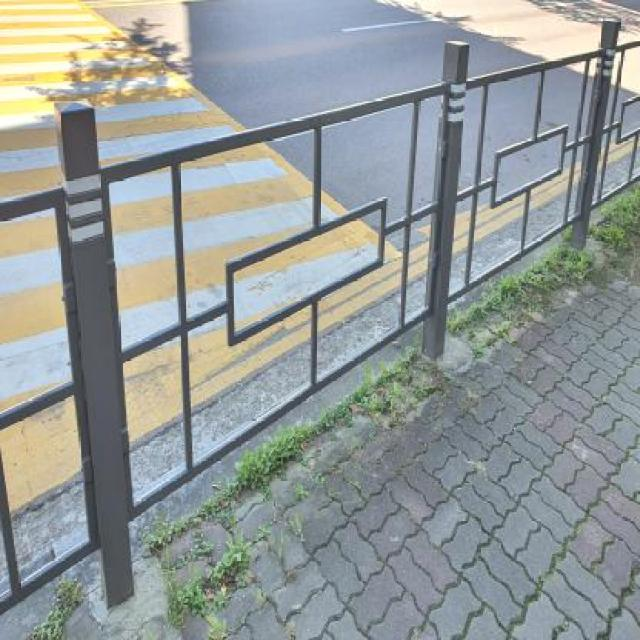fence: (0, 62, 534, 571), (421, 10, 640, 363)
